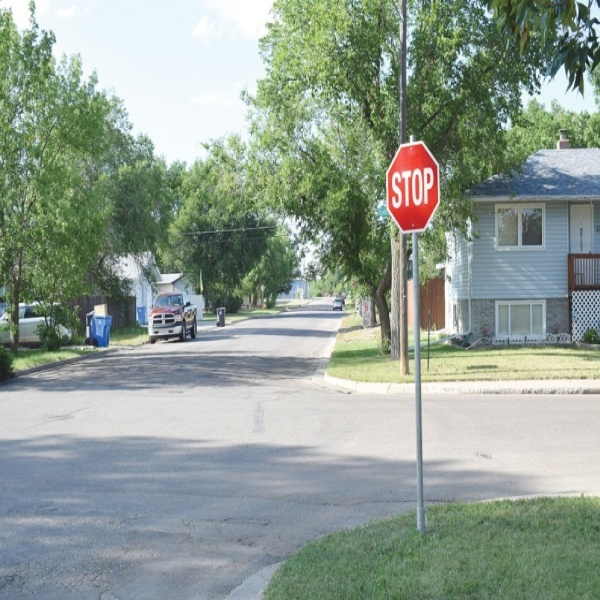stop: (386, 140, 439, 237)
